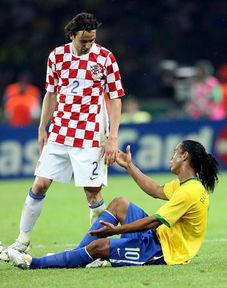bending: (5, 138, 220, 268)
up: (1, 10, 123, 255)
